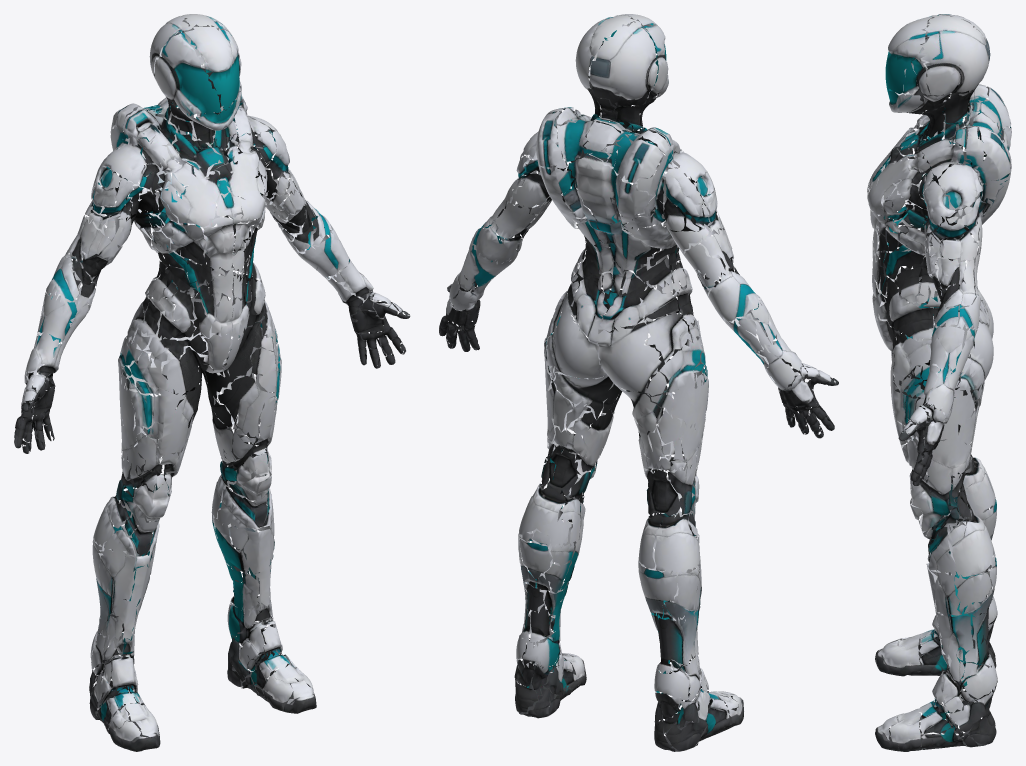
File: vanguard.glb
3 renders of one model, left to right at view 1: azimuth 30°, elevation 25°; view 2: azimuth 150°, elevation 25°; view 3: azimuth 270°, elevation 25°, orthographic.
Parts seen in each view (by area): view 1: hero; view 2: hero; view 3: hero.
Boxes of the visible parts, x1,y1,x2,y2 form: hero: (14,14,410,751); hero: (439,14,838,751); hero: (867,14,1011,751).
Bounding box in the file's own units: 1.1 × 1.85 × 0.3534.
1 material, 1 textured.
